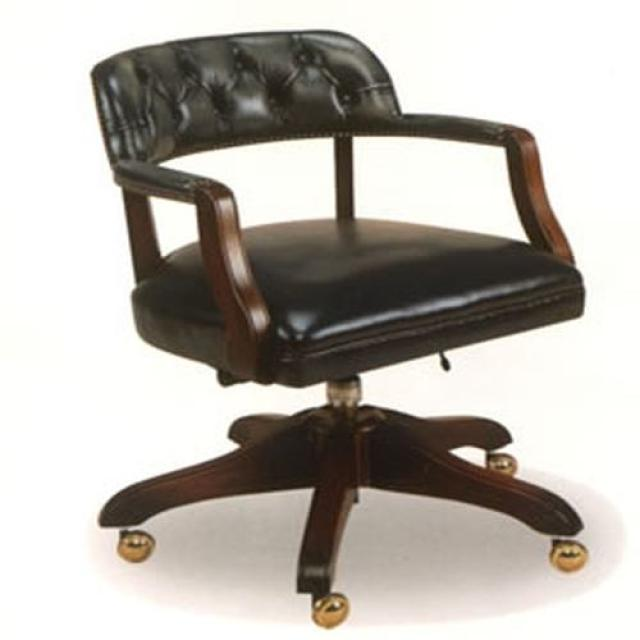swivelchair: (90, 29, 588, 632)
